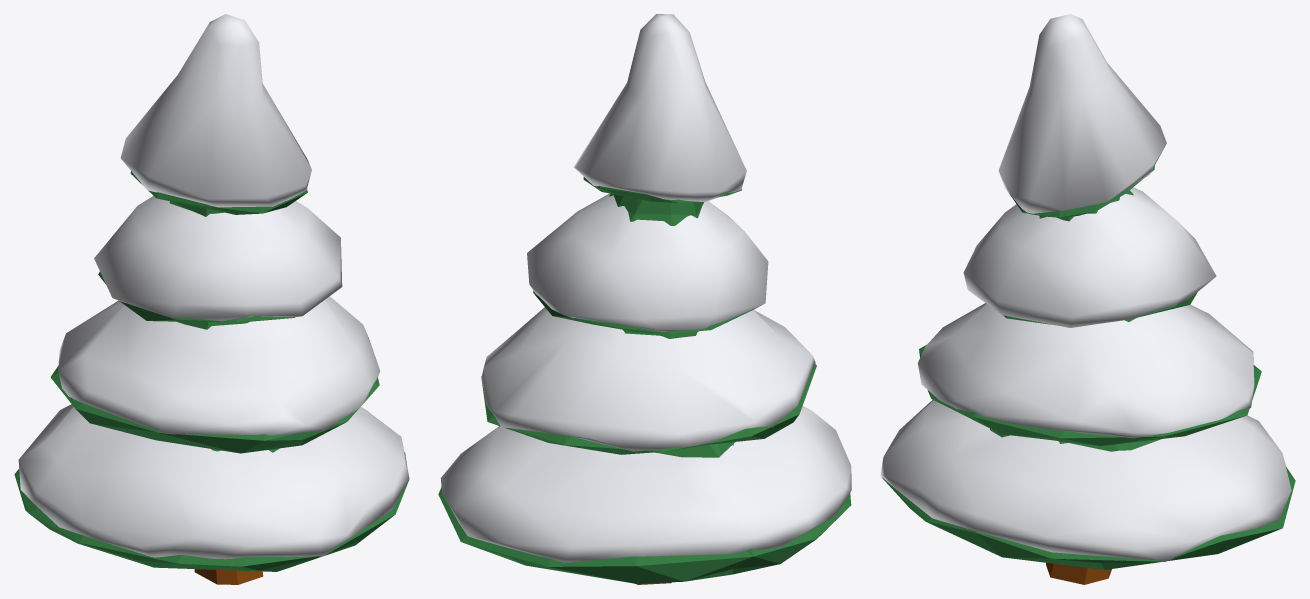
File: SnowTree3.glb
The picture shows the model from 3 angles, left to right: view 1: azimuth 30°, elevation 25°; view 2: azimuth 150°, elevation 25°; view 3: azimuth 270°, elevation 25°; orthographic projection. The views are drawn at different scales.
Parts seen in each view (by area): view 1: pine.003; view 2: pine.003; view 3: pine.003.
Part boxes in pixels (left/top/right/bottom): pine.003: left=14, top=14, right=409, bottom=584; pine.003: left=438, top=14, right=851, bottom=584; pine.003: left=880, top=14, right=1295, bottom=584.
Size of the model in its own units: 2.56 by 3.94 by 2.69.
